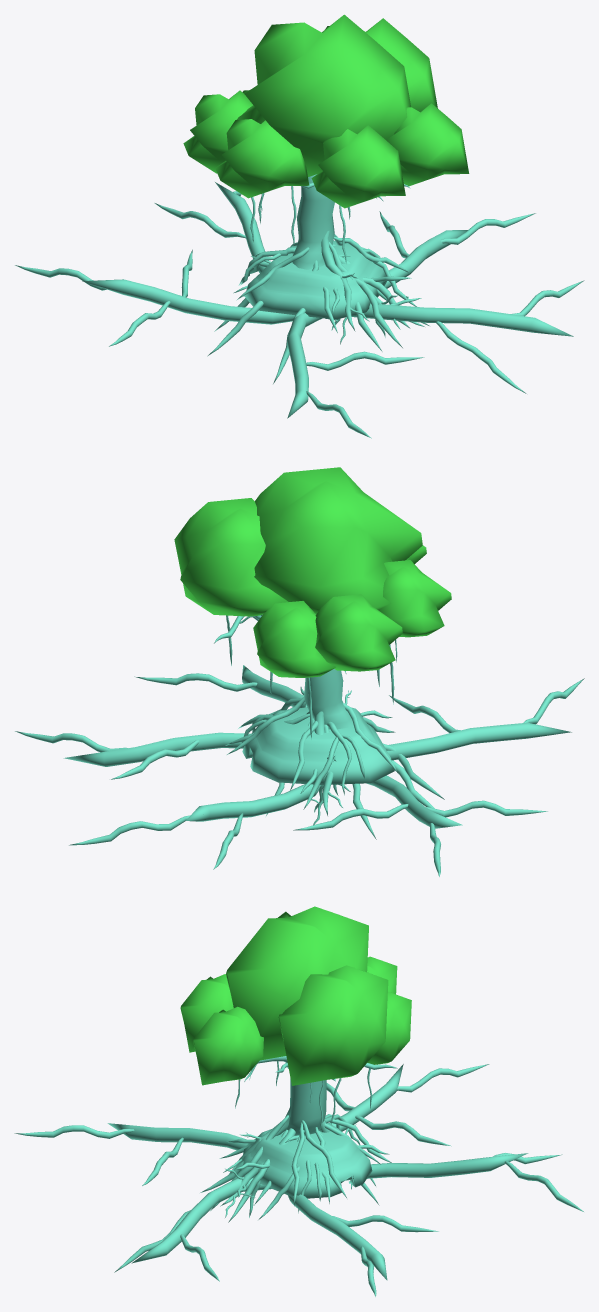
Rendered from ArvoreCaverna 2.fbx.
3 views of the same model, one above another, from view 1: azimuth 30°, elevation 25°; view 2: azimuth 150°, elevation 25°; view 3: azimuth 270°, elevation 25° (orthographic). The views are drawn at different scales.
Parts seen in each view (by area): view 1: Icosphere.016, Pedra 4 - Decall.001, Icosphere.018, Icosphere.013, Icosphere.015, Icosphere.017, Tronco oco.006, Tronco oco.004, Icosphere.014, Tronco oco.001, Tronco oco.005, Tronco oco.002 (+9 smaller); view 2: Icosphere.016, Icosphere.014, Pedra 4 - Decall.001, Icosphere.017, Icosphere.019, Icosphere.013, Tronco oco.005, Tronco oco.002, Tronco oco.003, Tronco oco.001, Tronco oco.004, Galho 2.002 (+8 smaller); view 3: Icosphere.016, Icosphere.014, Pedra 4 - Decall.001, Icosphere.015, Tronco oco.003, Icosphere.018, Tronco oco.005, Tronco oco.006, Icosphere.019, Tronco oco.001, Tronco oco.002, Tronco oco.004 (+10 smaller).
Part boxes in pixels (<box>): Icosphere.016: <box>236,14,410,176</box>; Pedra 4 - Decall.001: <box>244,240,386,319</box>; Icosphere.018: <box>311,125,405,208</box>; Icosphere.013: <box>215,119,309,198</box>; Icosphere.015: <box>386,103,469,186</box>; Icosphere.017: <box>183,90,252,173</box>; Tronco oco.006: <box>351,303,573,336</box>; Tronco oco.004: <box>82,279,294,324</box>; Icosphere.014: <box>325,18,437,111</box>; Tronco oco.001: <box>292,174,334,269</box>; Tronco oco.005: <box>287,313,322,418</box>; Tronco oco.002: <box>384,230,467,288</box>; Icosphere.016: <box>254,467,422,613</box>; Icosphere.014: <box>174,498,288,616</box>; Pedra 4 - Decall.001: <box>242,707,394,784</box>; Icosphere.017: <box>315,594,402,671</box>; Icosphere.019: <box>253,601,335,677</box>; Icosphere.013: <box>378,560,451,637</box>; Tronco oco.005: <box>387,722,571,760</box>; Tronco oco.002: <box>63,732,250,766</box>; Tronco oco.003: <box>186,784,321,821</box>; Tronco oco.001: <box>304,669,353,729</box>; Tronco oco.004: <box>366,775,462,828</box>; Galho 2.002: <box>303,721,364,809</box>; Icosphere.016: <box>226,906,368,1060</box>; Icosphere.014: <box>278,965,388,1085</box>; Pedra 4 - Decall.001: <box>243,1122,372,1198</box>; Icosphere.015: <box>193,1006,263,1085</box>; Tronco oco.003: <box>345,1153,528,1180</box>; Icosphere.018: <box>180,974,233,1052</box>; Tronco oco.005: <box>107,1123,247,1150</box>; Tronco oco.006: <box>131,1178,271,1263</box>; Icosphere.019: <box>367,992,411,1064</box>; Tronco oco.001: <box>285,1078,326,1135</box>; Tronco oco.002: <box>288,1194,387,1280</box>; Tronco oco.004: <box>329,1064,403,1131</box>.
Size of the model in its own units: 9640 by 6374 by 10599.
